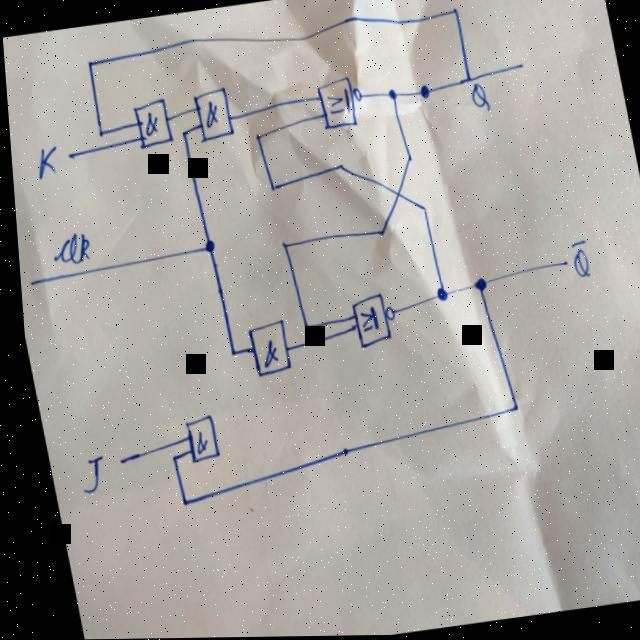crossover: (387, 186, 401, 201)
junction: (466, 274, 485, 296), (428, 285, 445, 305), (414, 82, 431, 102), (197, 238, 212, 255), (500, 399, 515, 416), (383, 86, 397, 104), (459, 73, 474, 88), (447, 4, 461, 19), (81, 56, 95, 71), (91, 124, 104, 140), (170, 493, 183, 508), (370, 225, 383, 240), (400, 151, 412, 166), (295, 320, 307, 333), (161, 451, 172, 464), (414, 202, 425, 215), (275, 238, 286, 251), (332, 160, 343, 173), (222, 345, 232, 358), (265, 180, 274, 194), (177, 127, 186, 139), (251, 131, 260, 142)
terminal: (509, 58, 528, 75), (106, 452, 121, 470), (553, 257, 568, 272), (19, 274, 34, 289), (61, 148, 75, 163)
text: (44, 229, 90, 268), (67, 452, 102, 496), (27, 141, 61, 182), (562, 237, 589, 282), (464, 80, 489, 115)
